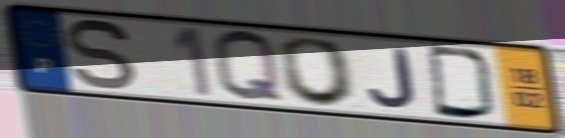1: (167, 23, 214, 100)
D: (424, 43, 500, 123)
J: (365, 45, 420, 111)
O: (277, 35, 362, 109)
Q: (209, 27, 287, 105)
S: (63, 17, 140, 94)
